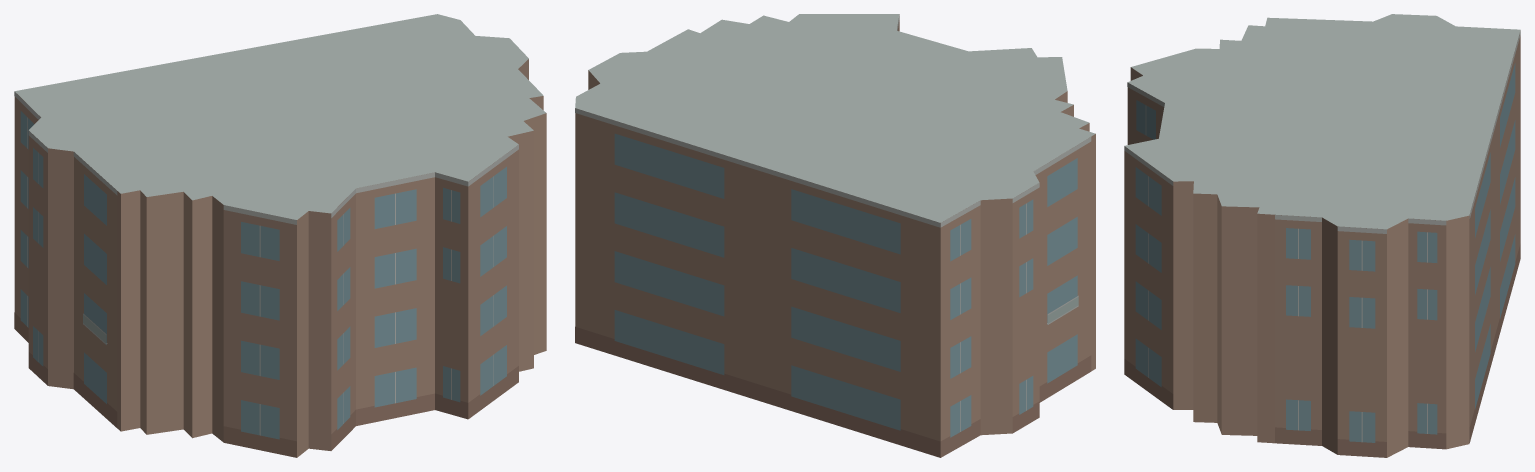
Rendered from survey-upis-32497880.glb.
3 views of the same model, side by side, from view 1: azimuth 30°, elevation 25°; view 2: azimuth 150°, elevation 25°; view 3: azimuth 270°, elevation 25° (orthographic). The views are drawn at different scales.
Visible parts, largest first — view 1: survey-upis-32497880.tmp; view 2: survey-upis-32497880.tmp; view 3: survey-upis-32497880.tmp.
Boxes of the visible parts, x1,y1,x2,y2 form: survey-upis-32497880.tmp: [14, 14, 546, 457]; survey-upis-32497880.tmp: [575, 14, 1095, 457]; survey-upis-32497880.tmp: [1124, 14, 1520, 457].
Bounding box in the file's own units: 23.85 × 11.8 × 18.56.
